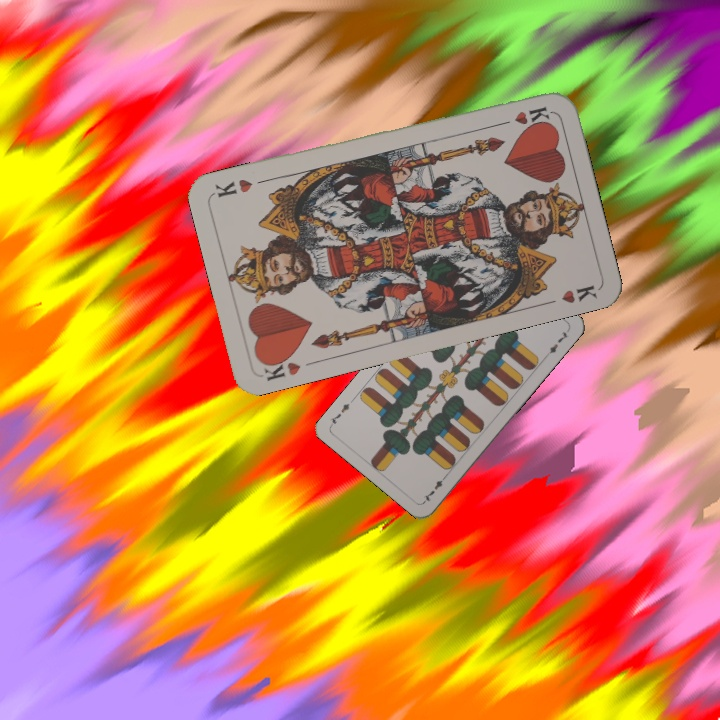E7: (419, 470, 450, 505)
HK: (493, 103, 553, 129), (257, 351, 303, 384)
